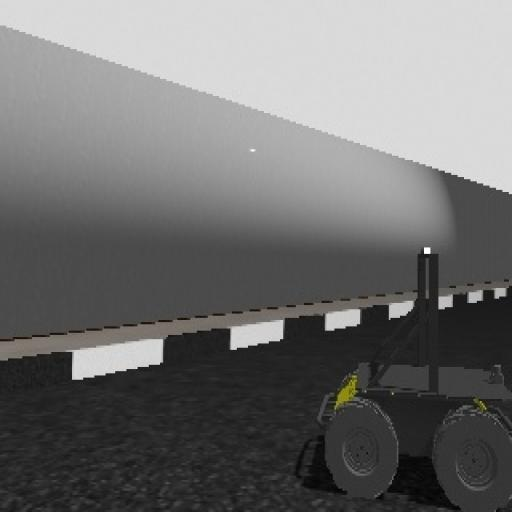huskya200: (317, 234, 512, 512)
